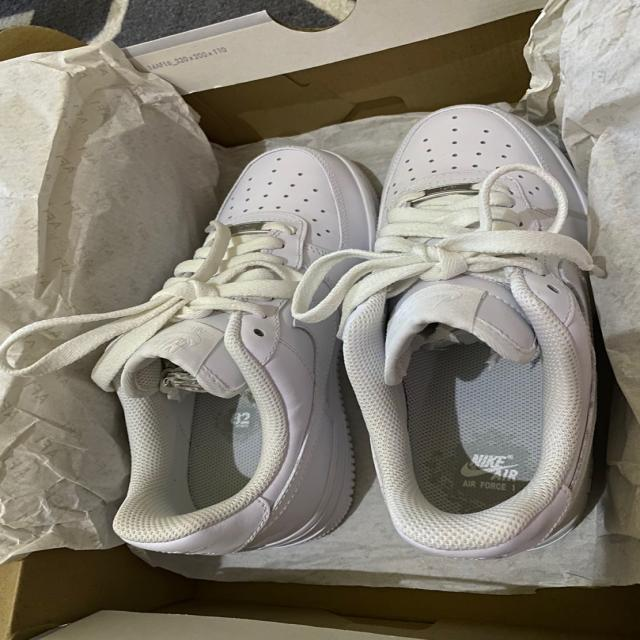nike original air force: (336, 99, 615, 557), (99, 146, 380, 558)
